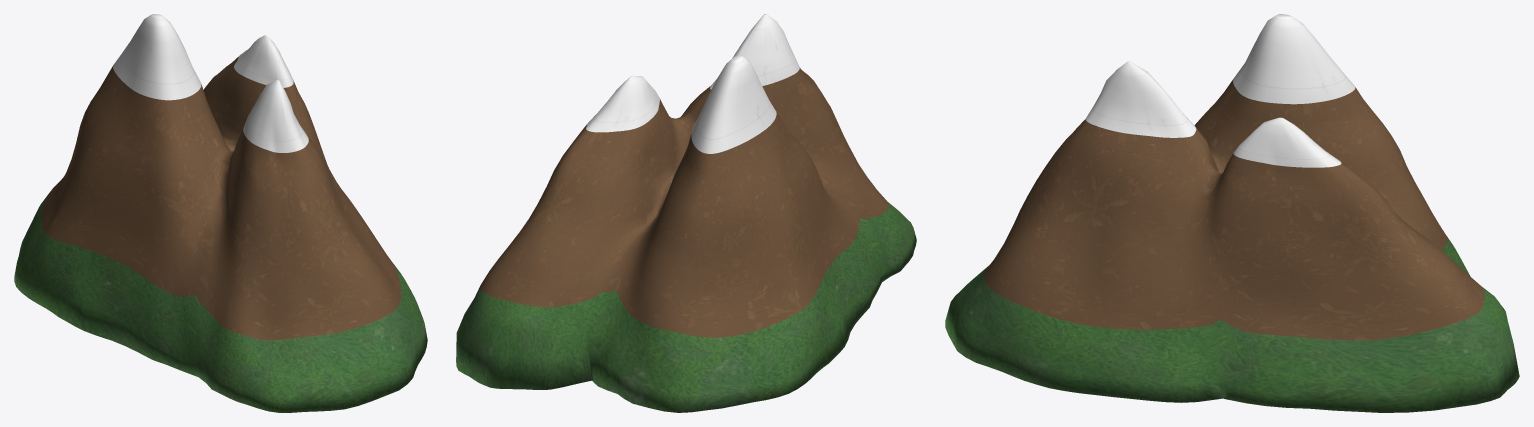
Rendered from Triple Mountain.fbx.
The picture shows the model from 3 angles, left to right: view 1: azimuth 30°, elevation 25°; view 2: azimuth 150°, elevation 25°; view 3: azimuth 270°, elevation 25°; orthographic projection. The views are drawn at different scales.
Visible parts, largest first — view 1: Third Mountain.006; view 2: Third Mountain.006; view 3: Third Mountain.006.
Part boxes in pixels (x1,y1,x2,y2): Third Mountain.006: [14, 14, 427, 412]; Third Mountain.006: [456, 14, 916, 412]; Third Mountain.006: [945, 14, 1519, 412].
Size of the model in its own units: 222 by 195 by 347.
Materials: 1 (1 with a texture image).
